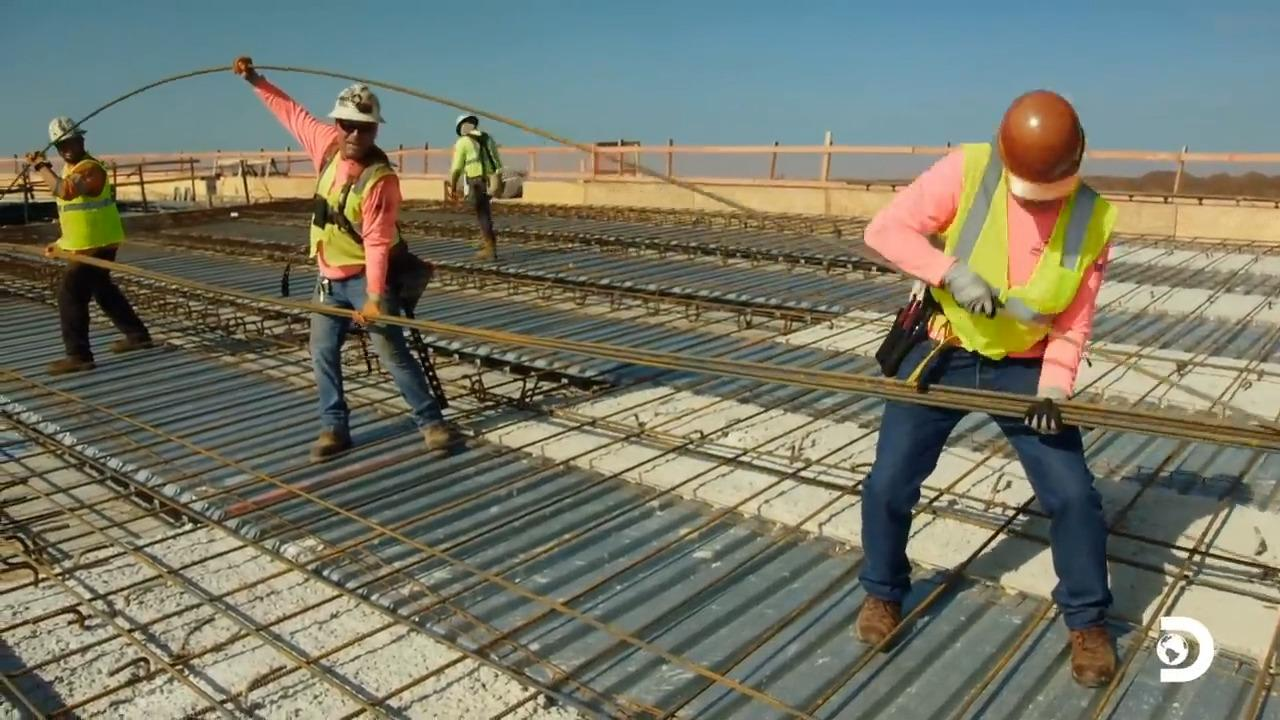Gloves: (938, 258, 986, 315), (1022, 385, 1064, 434), (350, 299, 376, 325), (234, 57, 257, 77), (33, 151, 54, 171)
Helmet: (997, 89, 1085, 184), (326, 83, 386, 123), (47, 116, 87, 144), (455, 113, 478, 135)
Person: (853, 88, 1119, 688), (232, 55, 454, 463), (25, 115, 153, 374), (447, 113, 502, 261)
Safety Boot: (850, 594, 903, 655), (1070, 627, 1114, 682), (51, 352, 102, 379), (422, 418, 458, 455), (109, 329, 153, 355), (309, 432, 348, 458)
Safety Vest: (956, 158, 1082, 345), (313, 165, 395, 275), (60, 186, 113, 251), (455, 142, 496, 178)
